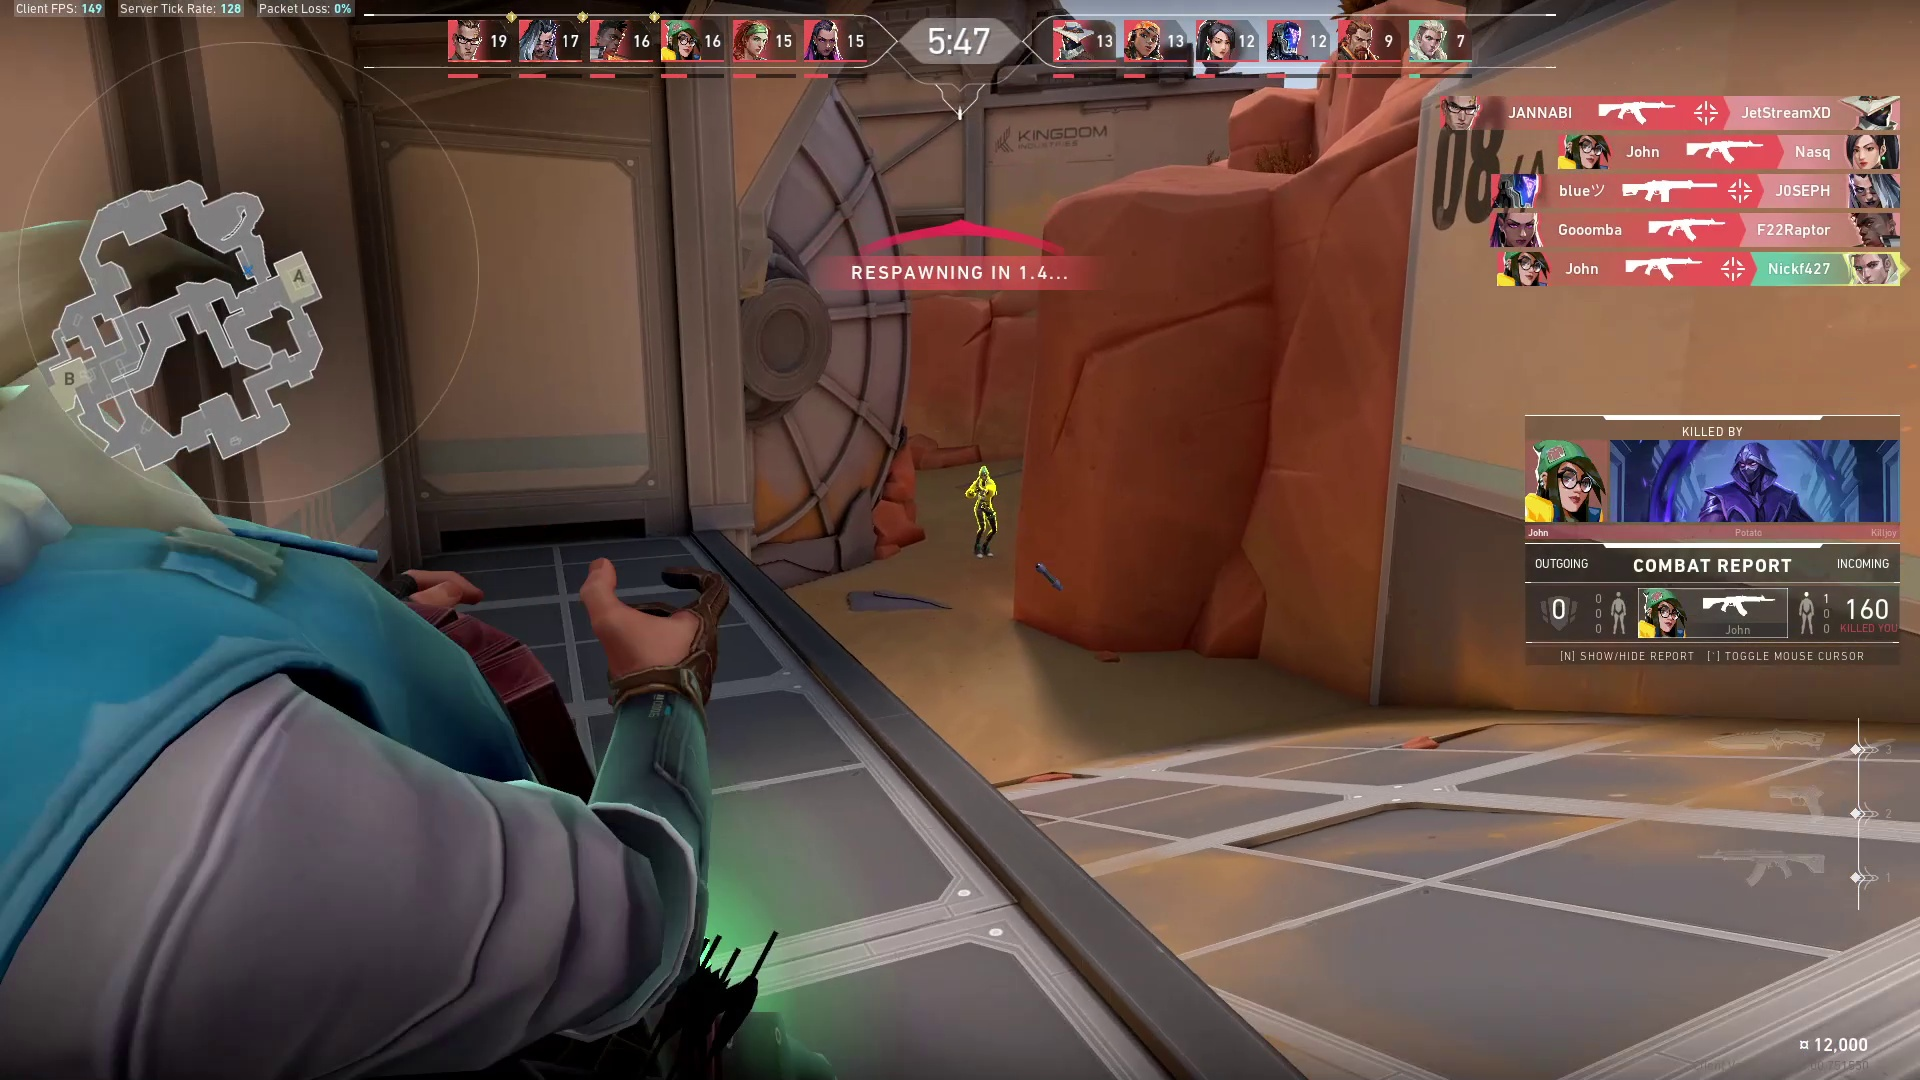enemy_body: (967, 480, 1000, 562)
enemy_head: (977, 464, 992, 482)
